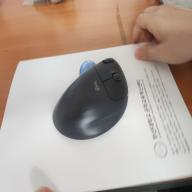mouse: (52, 56, 130, 142)
